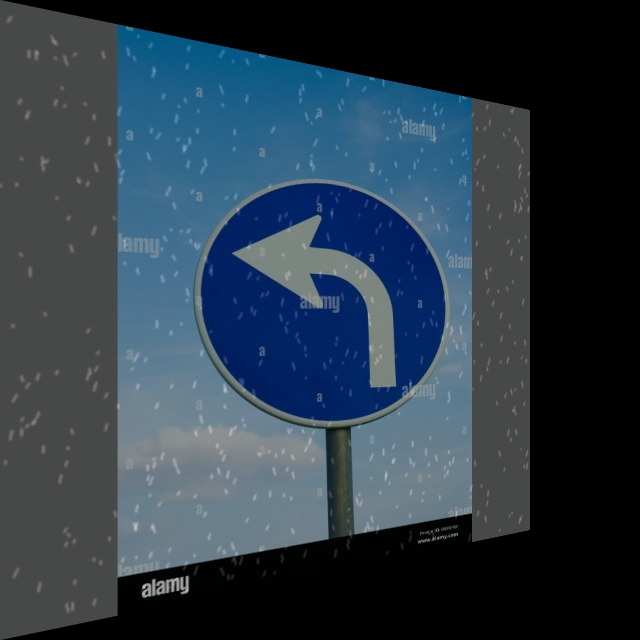Compulsory_Turn_Left_Ahead: (198, 168, 440, 441)
